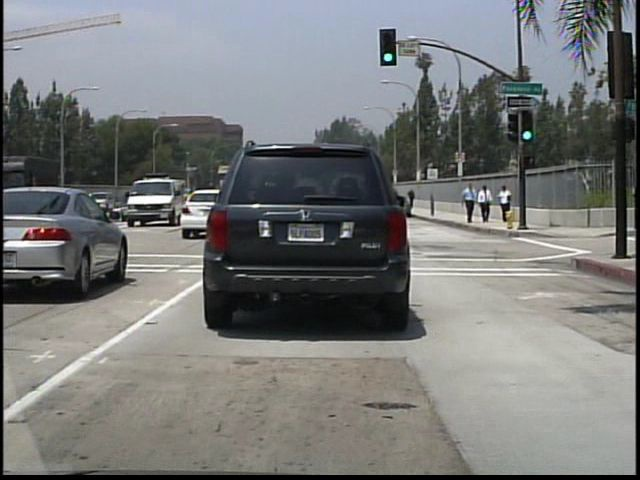person: (460, 180, 477, 225), (478, 185, 493, 224), (498, 184, 513, 212), (409, 187, 417, 210)
